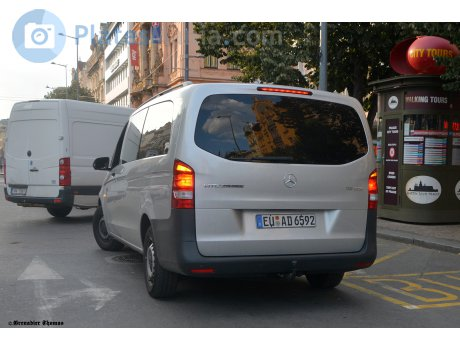License Plates: (262, 213, 318, 229)
